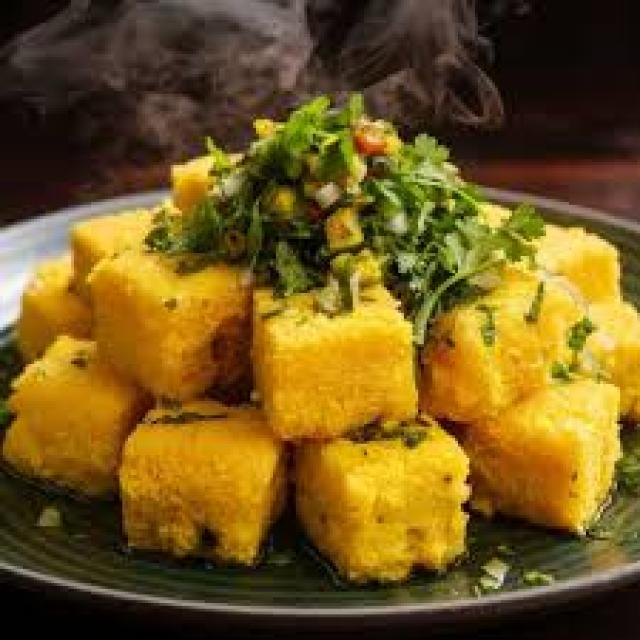DHOKLA: (235, 278, 413, 436), (292, 413, 456, 572), (87, 252, 260, 399), (428, 259, 577, 424), (127, 398, 276, 562), (8, 333, 158, 488), (474, 381, 622, 528), (502, 230, 622, 315), (18, 244, 102, 360), (76, 209, 180, 286)
